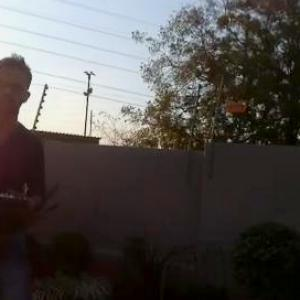follow: (0, 54, 77, 299)
